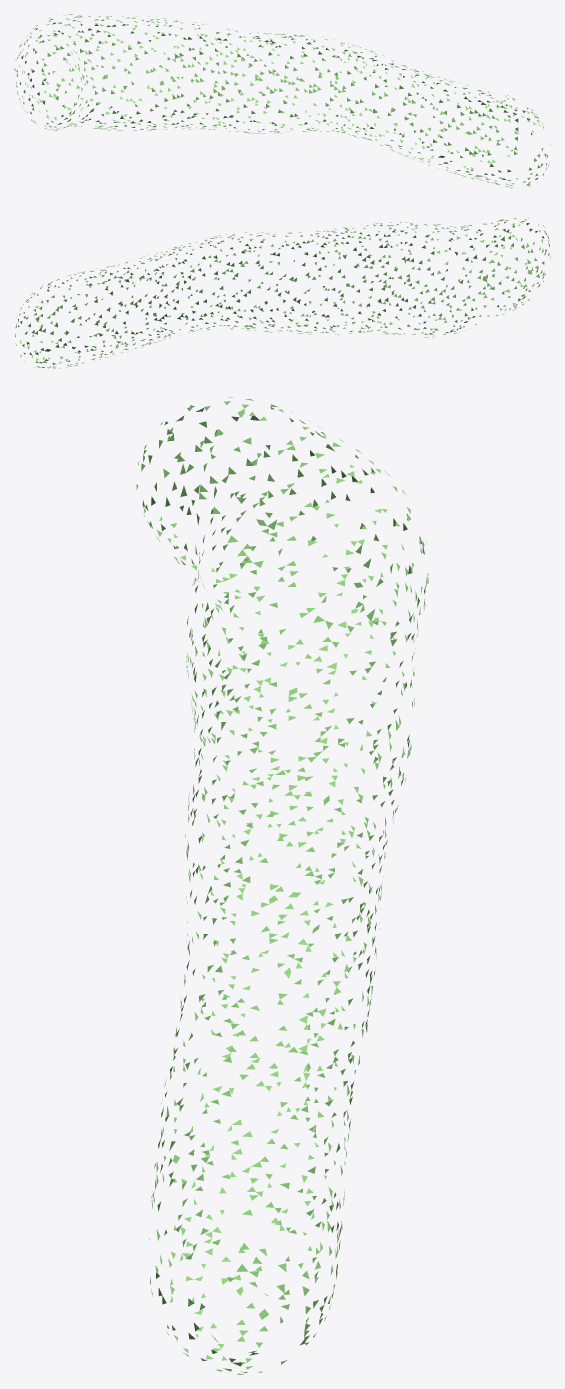
The model's file is morph_015.glb.
3 views of the same model, one above another, from view 1: azimuth 30°, elevation 25°; view 2: azimuth 150°, elevation 25°; view 3: azimuth 270°, elevation 25° (orthographic). The views are drawn at different scales.
Bounding box in the file's own units: 91.98 × 44.33 × 22.75.
